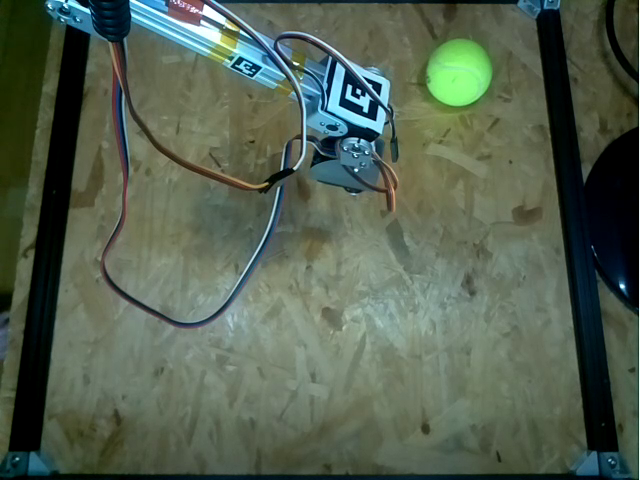tennis_ball: (425, 38, 495, 106)
